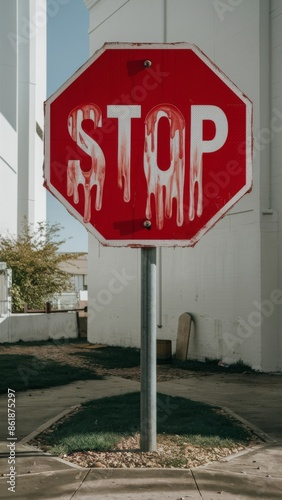StopSign: (43, 40, 253, 247)
